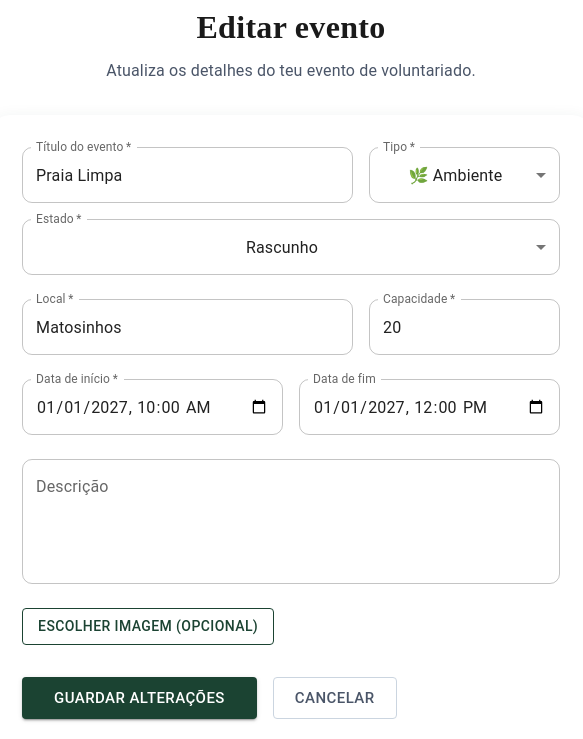
Test: EventEdit status dropdown › offers all three statuses when the event is currently a DRAFT
Click the dropdown named "Estado": click(282, 247) [246, 238, 318, 256]
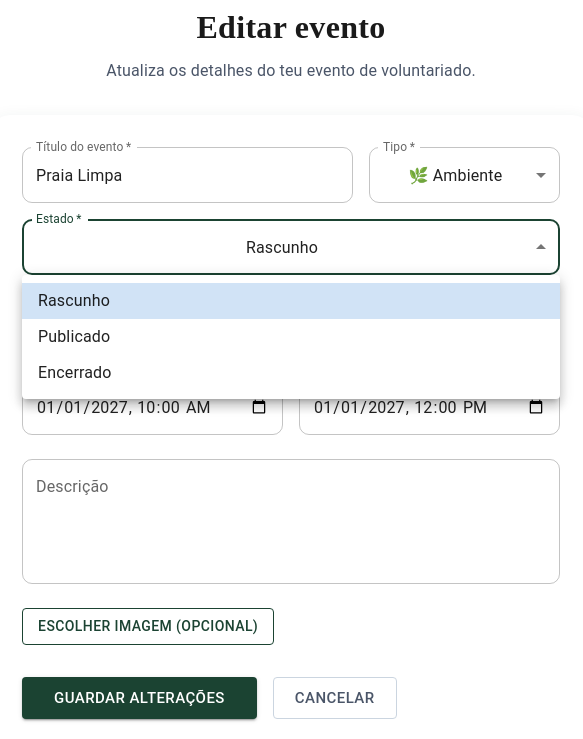
Now the number of options is 3, box [22, 283, 560, 319]; [38, 327, 110, 346]; [38, 363, 112, 382]
